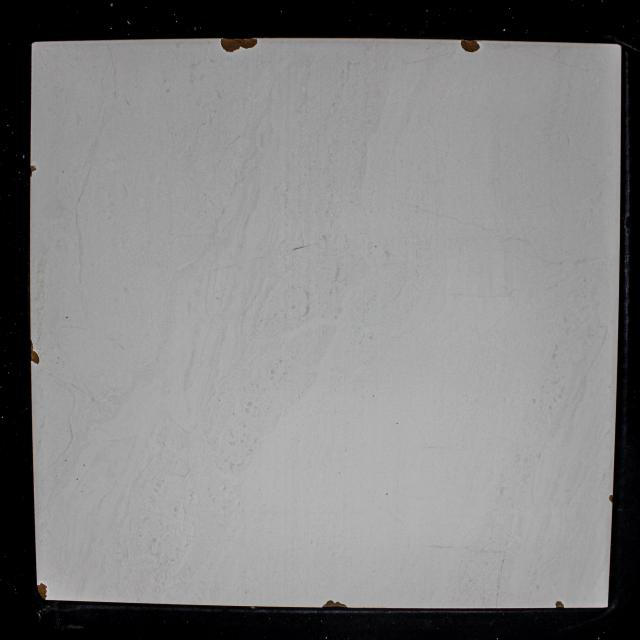edge-chipping: (220, 35, 259, 53), (458, 38, 481, 53), (29, 340, 40, 366), (322, 599, 348, 610), (36, 583, 48, 602), (28, 165, 36, 178), (554, 601, 565, 609), (608, 495, 614, 504)
